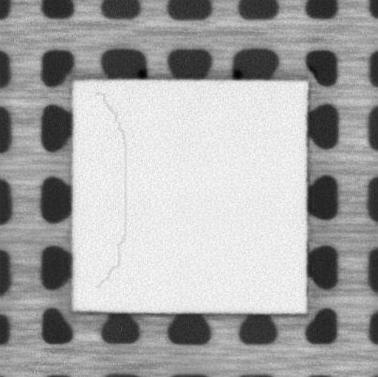DIE_CRACK: (95, 88, 129, 288)
